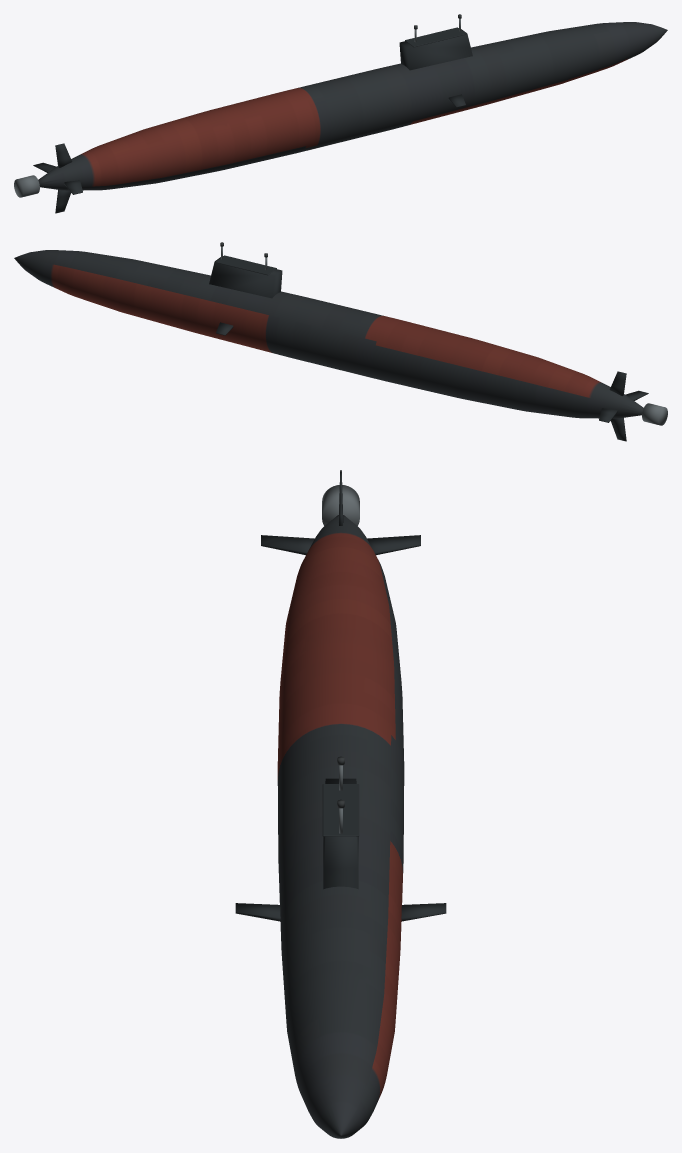
File: US_SSN_Virginia_LOD1.fbx
3 views of the same model, one above another, from view 1: azimuth 30°, elevation 25°; view 2: azimuth 150°, elevation 25°; view 3: azimuth 270°, elevation 25° (orthographic). The views are drawn at different scales.
Visible parts, largest first — view 1: US_SSN_Virginia_LOD1; view 2: US_SSN_Virginia_LOD1; view 3: US_SSN_Virginia_LOD1.
Boxes of the visible parts, <box> form: US_SSN_Virginia_LOD1: <box>14,14,667,213</box>; US_SSN_Virginia_LOD1: <box>14,242,667,441</box>; US_SSN_Virginia_LOD1: <box>235,470,446,1138</box>.
Size of the model in its own units: 118 by 16.66 by 17.36.
6 materials, 1 textured.
